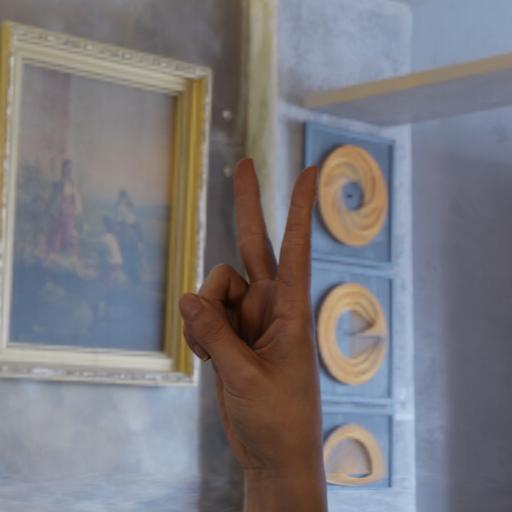V: (173, 144, 334, 512)
